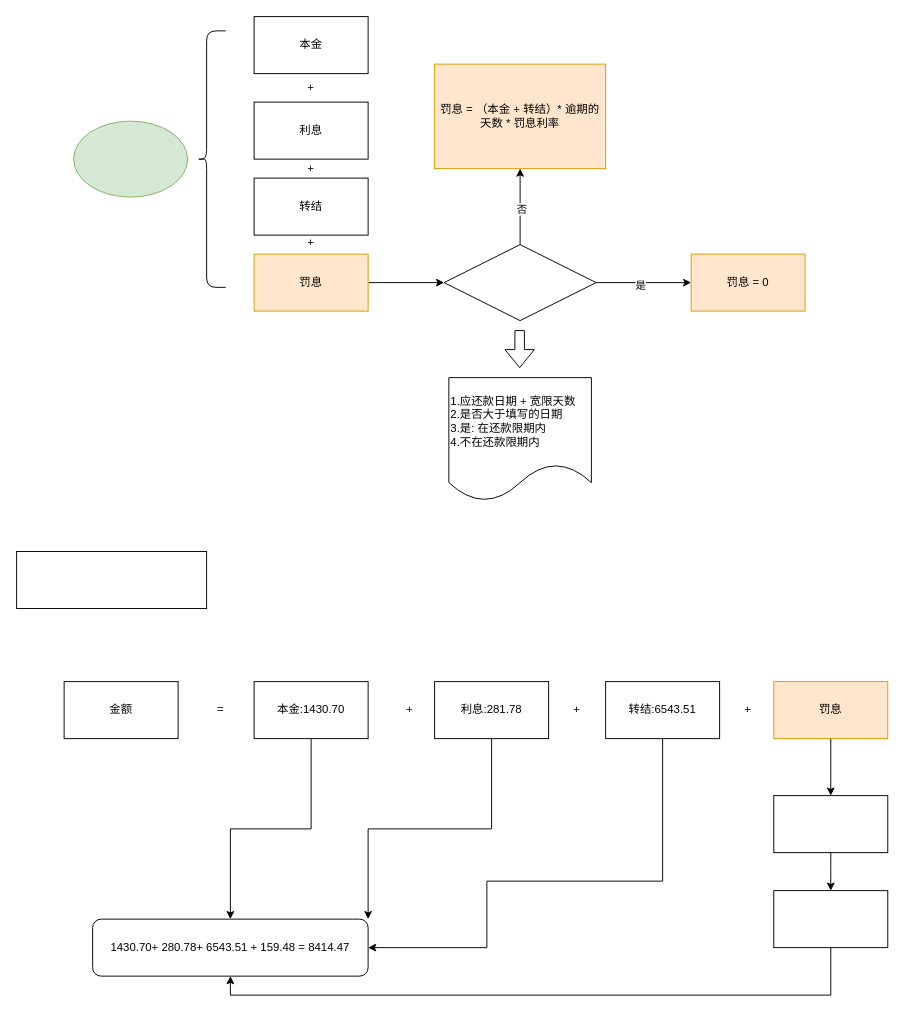
The diagram is 904 pixels wide and 1019 high, and some of its shapes have lost their labels. Here are the shapes that lost their labels. From the top down, the centre of each, then its label:
At point 130,158: "结清本期还款的金额".
At point 519,282: "根据填写的日期判断 是否在还款期限内".
At point 111,579: "例: orderId = 123, 期数 3 产品: 宽限天数1 ， 利率0.02".
At point 830,824: "应还日期:2024-03-18 填写日期:2024-03-20 逾期一天".
At point 830,919: "计算利息= (1430.70+6543.51) * 0.02* 1 = 159.48".
